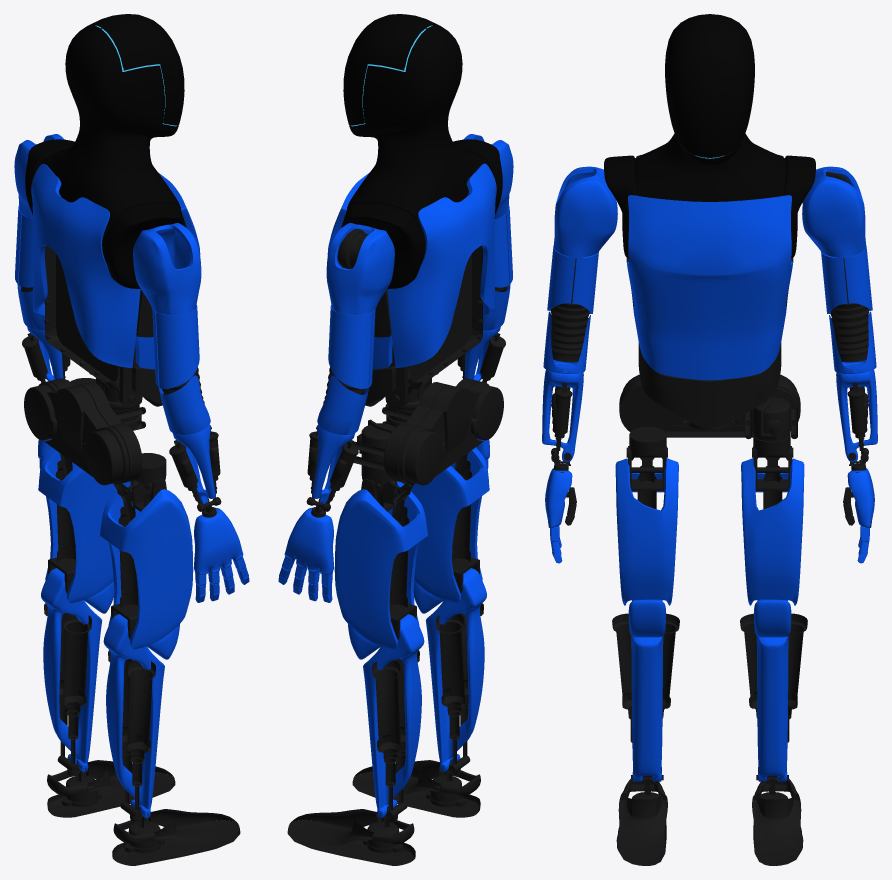
File: builder.glb
3 renders of one model, left to right at view 1: azimuth 30°, elevation 25°; view 2: azimuth 150°, elevation 25°; view 3: azimuth 270°, elevation 25°, orthographic.
Parts seen in each view (by area): view 1: Cube.001; view 2: Cube.001; view 3: Cube.001.
Part boxes in pixels (x1=…): Cube.001: x1=14, y1=14, x2=249, y2=865; Cube.001: x1=278, y1=14, x2=513, y2=865; Cube.001: x1=542, y1=14, x2=877, y2=865.
Bounding box in the file's own units: 0.3406 × 1.7 × 0.6396.
